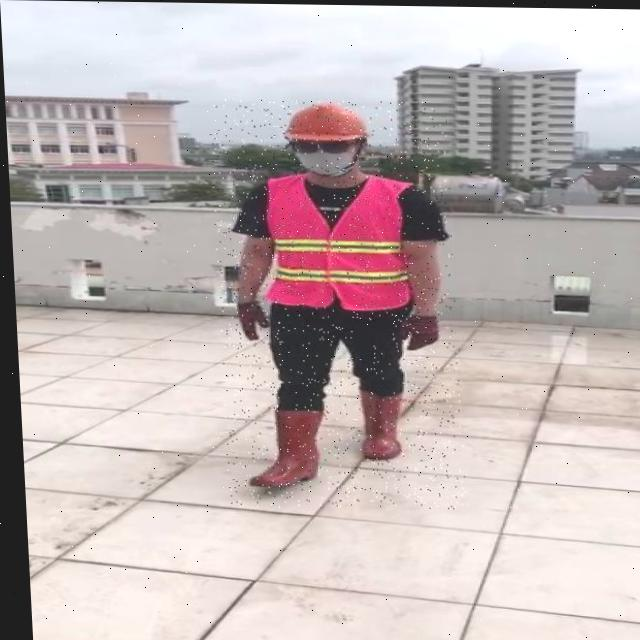Gloves: (234, 301, 268, 339), (402, 313, 437, 348)
Helmet: (281, 100, 369, 175)
Safety-Boot: (241, 405, 322, 488), (355, 386, 401, 459)
Safety-Vest: (259, 171, 419, 311)
